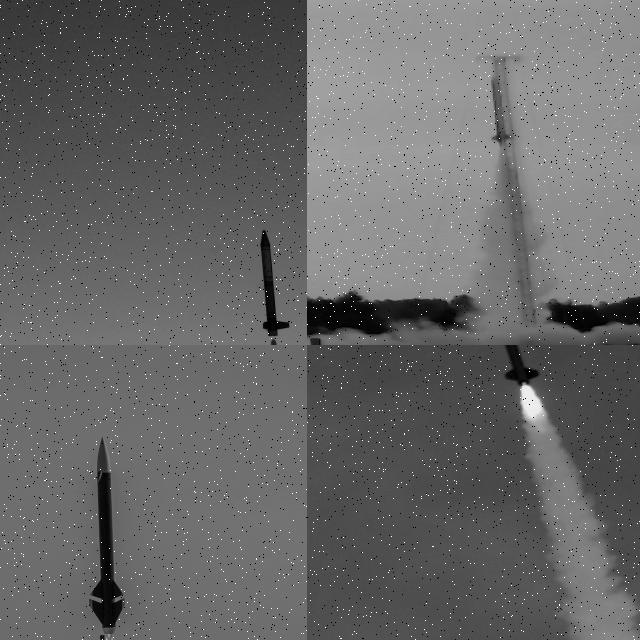Rocket: (88, 438, 130, 640), (260, 229, 290, 338), (493, 345, 541, 386), (489, 75, 514, 145)
